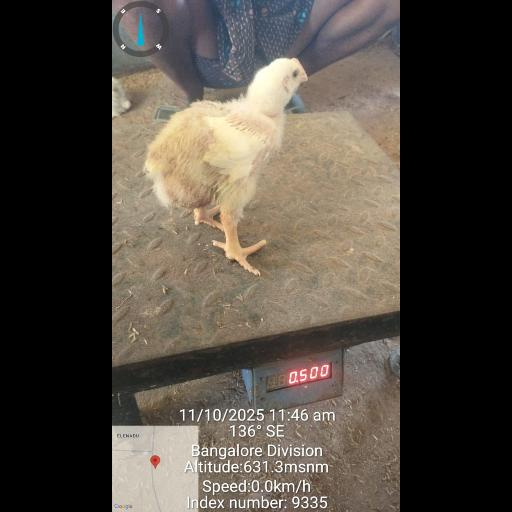chick: (145, 58, 308, 275)
